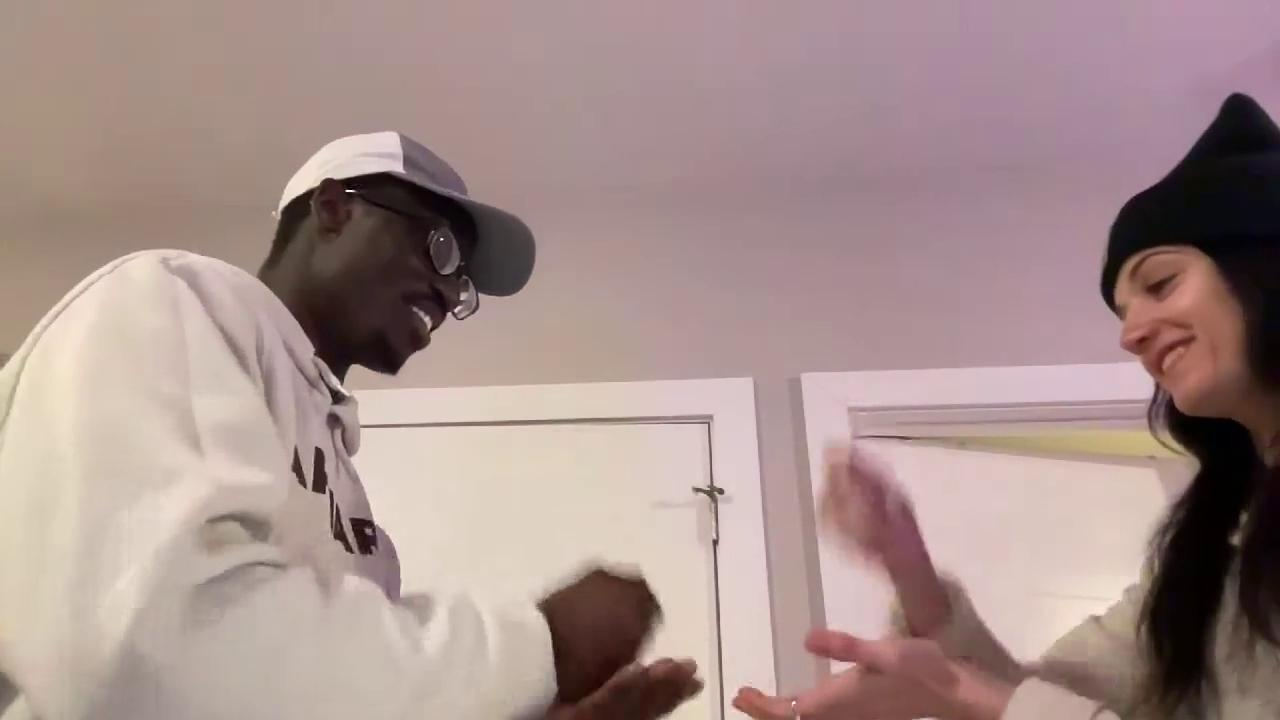Rock: (547, 563, 663, 708), (825, 447, 916, 576)
